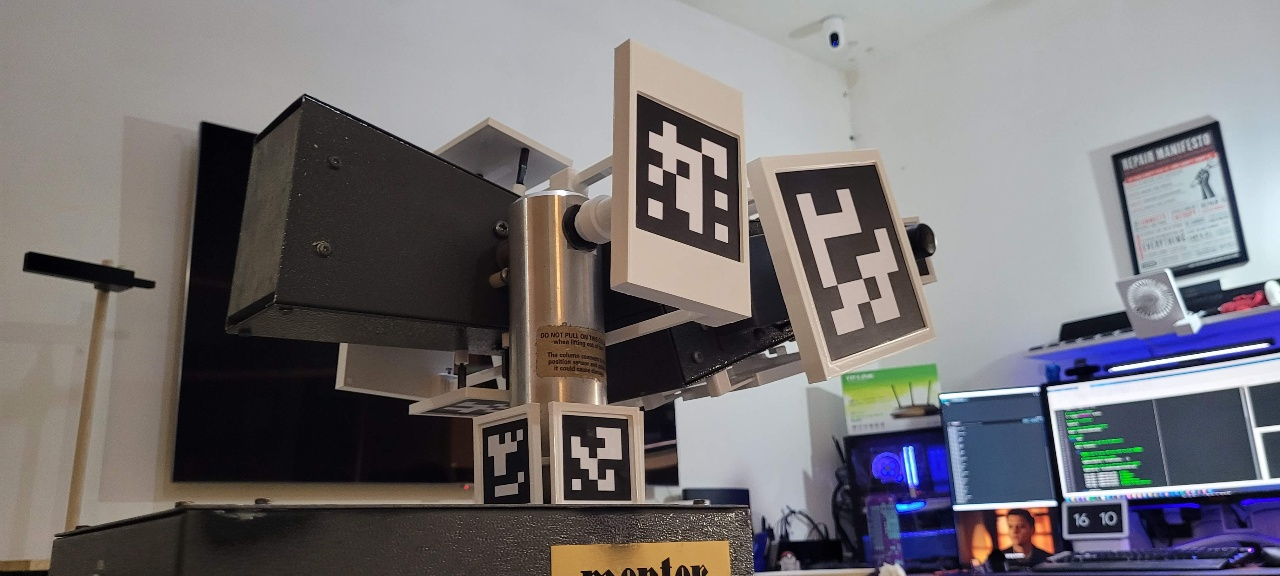Robot: (223, 36, 940, 506)
